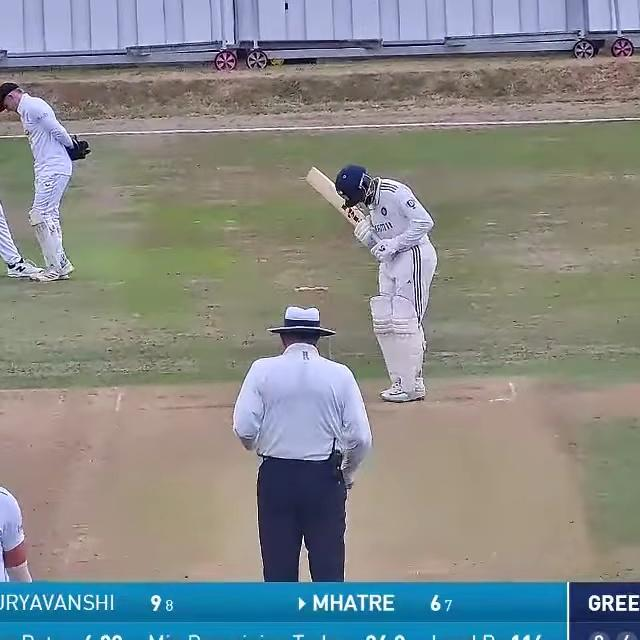umpire: (219, 284, 382, 582)
